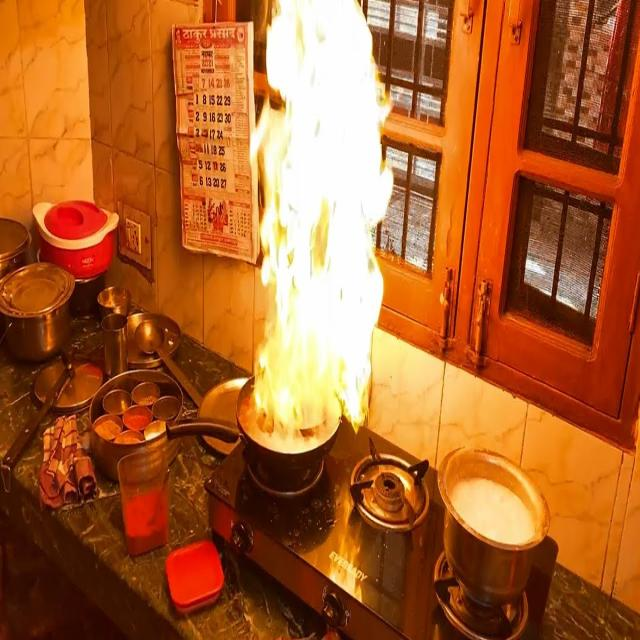fire: (249, 0, 393, 454)
